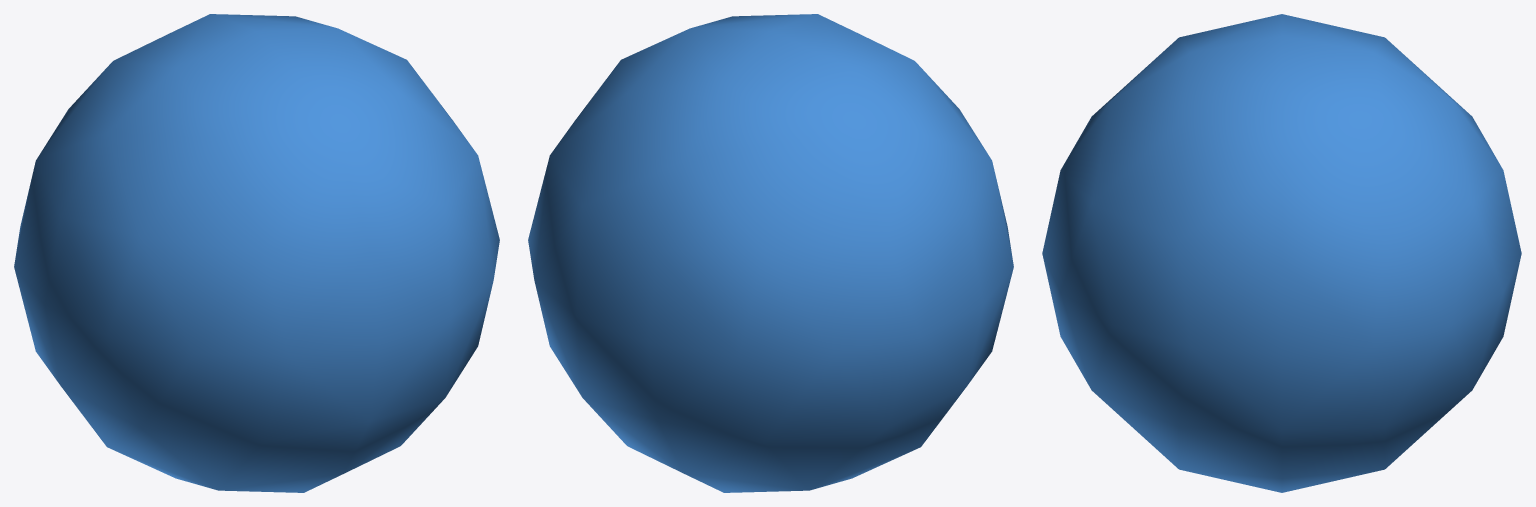
File: expected.gltf
3 views of the same model, side by side, from view 1: azimuth 30°, elevation 25°; view 2: azimuth 150°, elevation 25°; view 3: azimuth 270°, elevation 25° (orthographic). The views are drawn at different scales.
Size of the model in its own units: 20 by 20 by 20.
